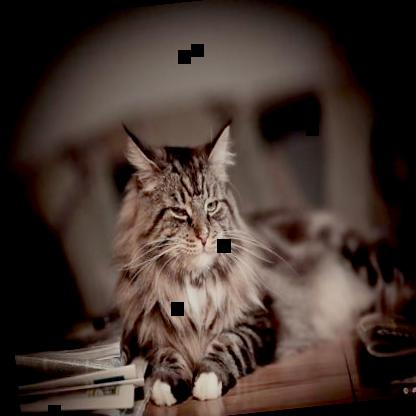cat: (91, 91, 415, 413)
